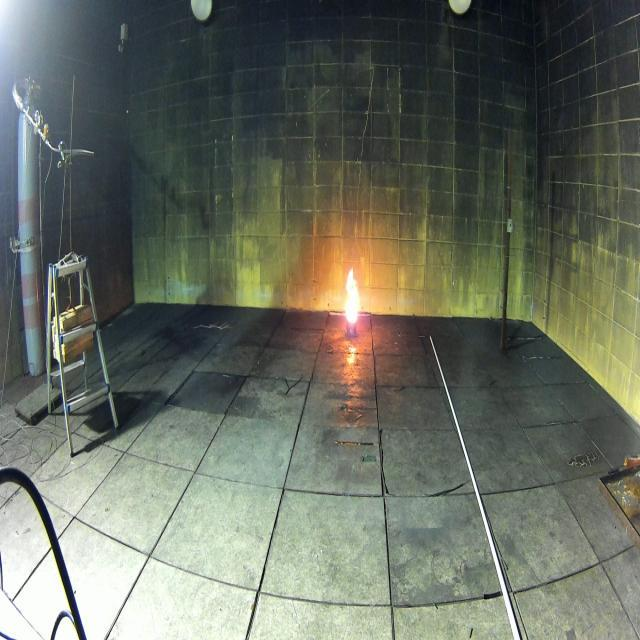Fire: (346, 265, 358, 323)
